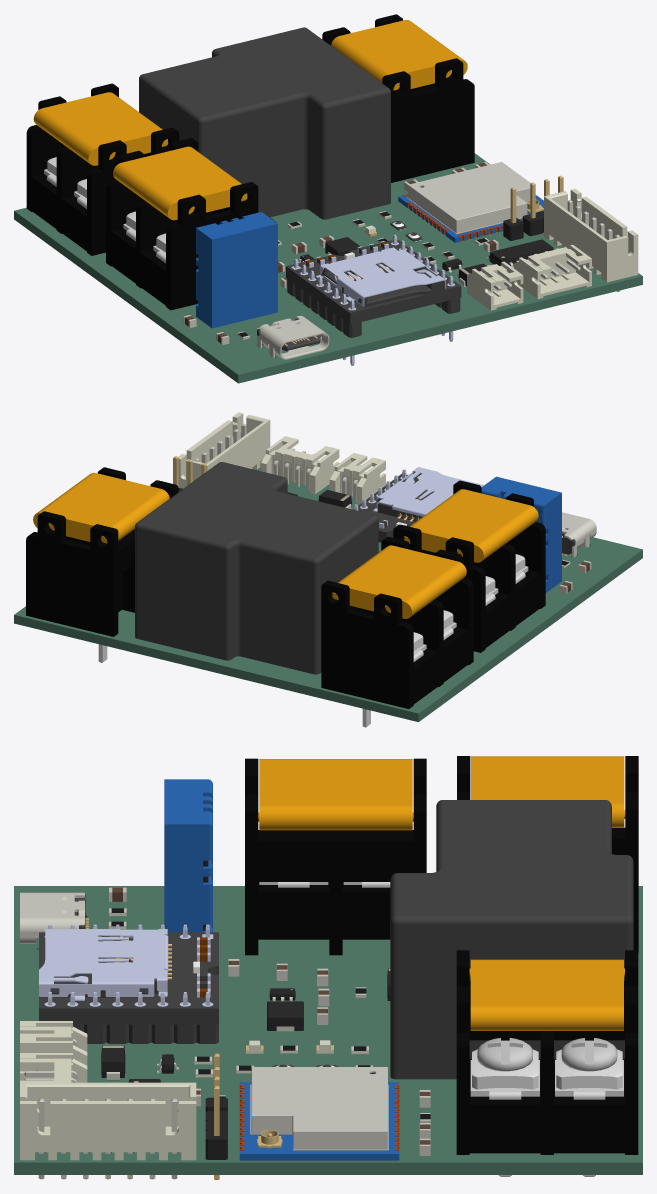
File: powerWheels.glb
3 views of the same model, one above another, from view 1: azimuth 30°, elevation 25°; view 2: azimuth 150°, elevation 25°; view 3: azimuth 270°, elevation 25° (orthographic). The views are drawn at different scales.
Parts seen in each view (by area): view 1: K2, =>[0:1:1:22], Cover001 (×3), main_BodyLeft (×3), main_BodyRight (×2), U7, U6, U1, RFID1, OLED1, J3, FAN1 (+3 smaller); view 2: K2, main_BodyRight (×3), main_BodyLeft (×3), Cover001 (×3), =>[0:1:1:22], U7, RFID1, U6, OLED1, FAN1, J3; view 3: =>[0:1:1:22], K2, Cover001 (×3), main_BodyRight (×3), U7, main_BodyLeft (×3), U1, RFID1, U6, top_contact_Body (×2), screw_Body (×2), J3 (+7 smaller).
Part boxes in pixels (x1,y1,x2,y2): K2: (139,27,390,219); =>[0:1:1:22]: (14,153,642,383); Cover001 (×3): (33,20,467,220); main_BodyLeft (×3): (26,58,474,286); main_BodyRight (×2): (59,127,258,310); U7: (286,234,461,365); U6: (196,212,277,328); U1: (398,162,543,242); RFID1: (544,188,638,291); OLED1: (513,245,591,298); J3: (257,316,329,359); FAN1: (467,261,523,310); K2: (135,462,378,674); main_BodyRight (×3): (26,480,545,685); main_BodyLeft (×3): (97,467,513,708); Cover001 (×3): (33,472,538,618); =>[0:1:1:22]: (14,463,642,721); U7: (353,467,483,542); RFID1: (178,412,270,488); U6: (481,476,561,592); OLED1: (261,436,339,494); FAN1: (329,453,385,504); J3: (562,512,596,557); =>[0:1:1:22]: (14,886,642,1174); K2: (390,800,633,1079); Cover001 (×3): (258,756,625,1030); main_BodyRight (×3): (245,756,638,1154); U7: (39,924,218,1043); main_BodyLeft (×3): (336,756,638,1154); U1: (239,1067,399,1160); RFID1: (20,1082,196,1179); U6: (164,779,212,932); top_contact_Body (×2): (472,1049,622,1089); screw_Body (×2): (477,1038,617,1071); J3: (20,892,88,943).
Bounding box in the file's own units: 0.0739 × 0.0284 × 0.071.
